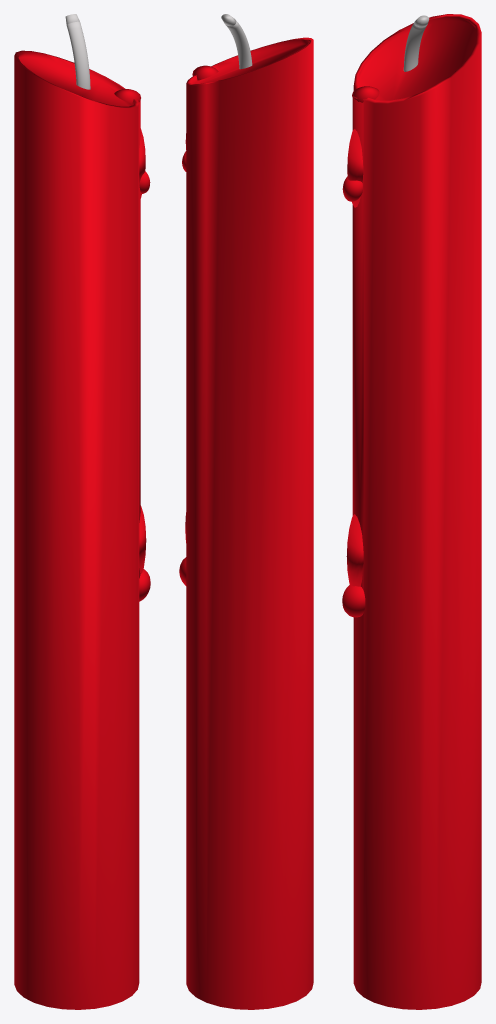
Rendered from candle_melting.fbx.
3 renders of one model, left to right at view 1: azimuth 90°, elevation 25°; view 2: azimuth 210°, elevation 25°; view 3: azimuth 270°, elevation 25°, orthographic. The views are drawn at different scales.
Parts seen in each view (by area): view 1: candle, candle_wick; view 2: candle, candle_wick; view 3: candle, candle_wick.
Part boxes in pixels (x1,y1,x2,y2): candle: (14,50,150,1009); candle_wick: (65,14,90,89); candle: (179,37,313,1009); candle_wick: (221,14,252,69); candle: (342,14,481,1009); candle_wick: (403,15,429,71).
Bounding box in the file's own units: 0.1262 × 1.07 × 0.1376.
